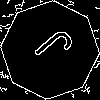J: (25, 25, 76, 74)
